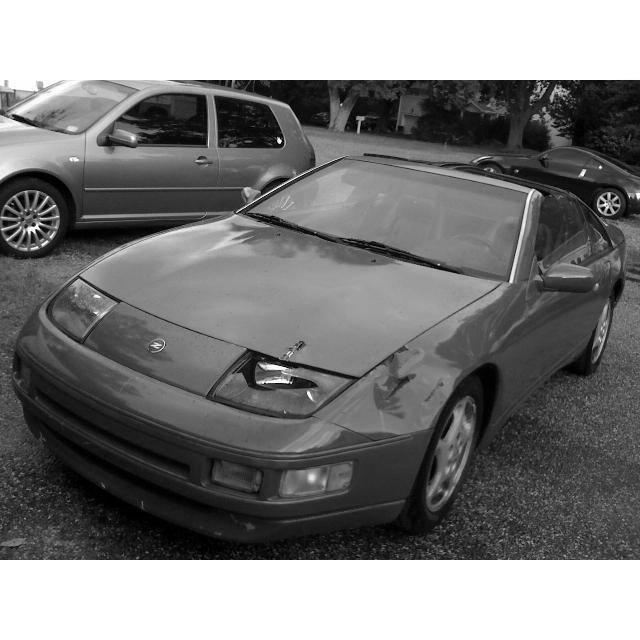fender-dent: (364, 331, 499, 437)
